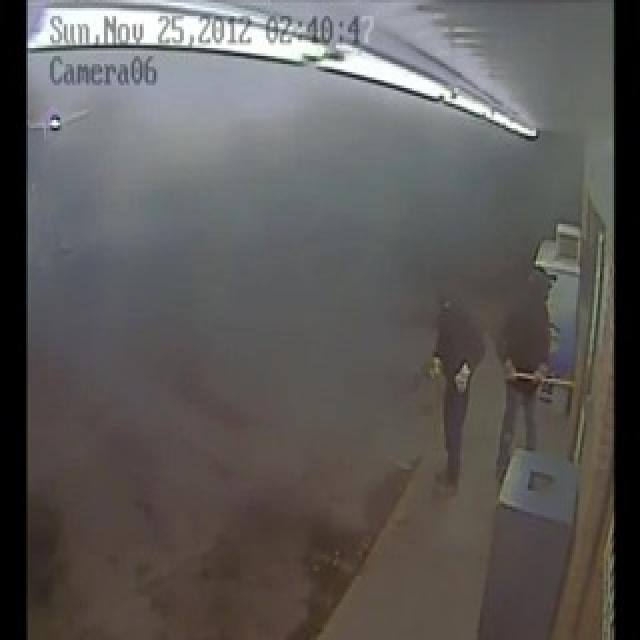thief: (500, 254, 557, 463), (430, 273, 485, 488)
